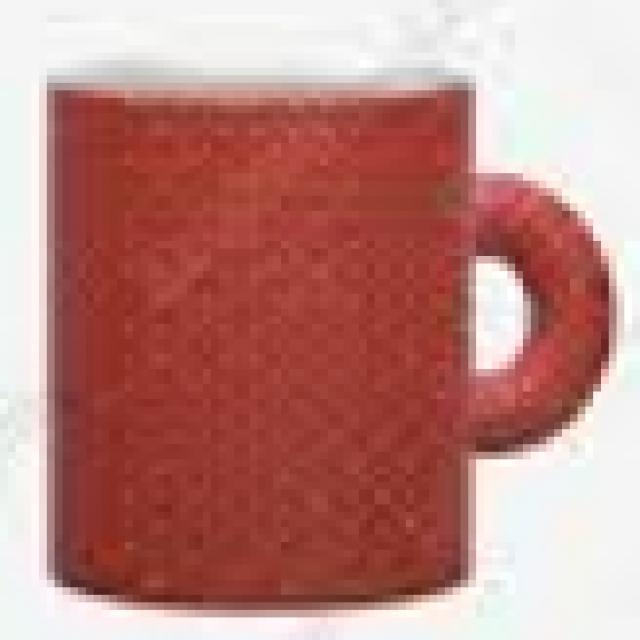taza: (38, 48, 623, 618)
